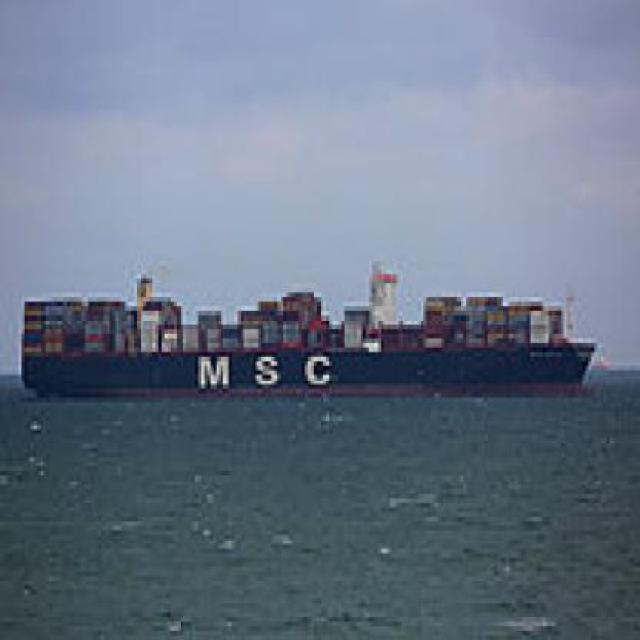container: (10, 271, 601, 408)
